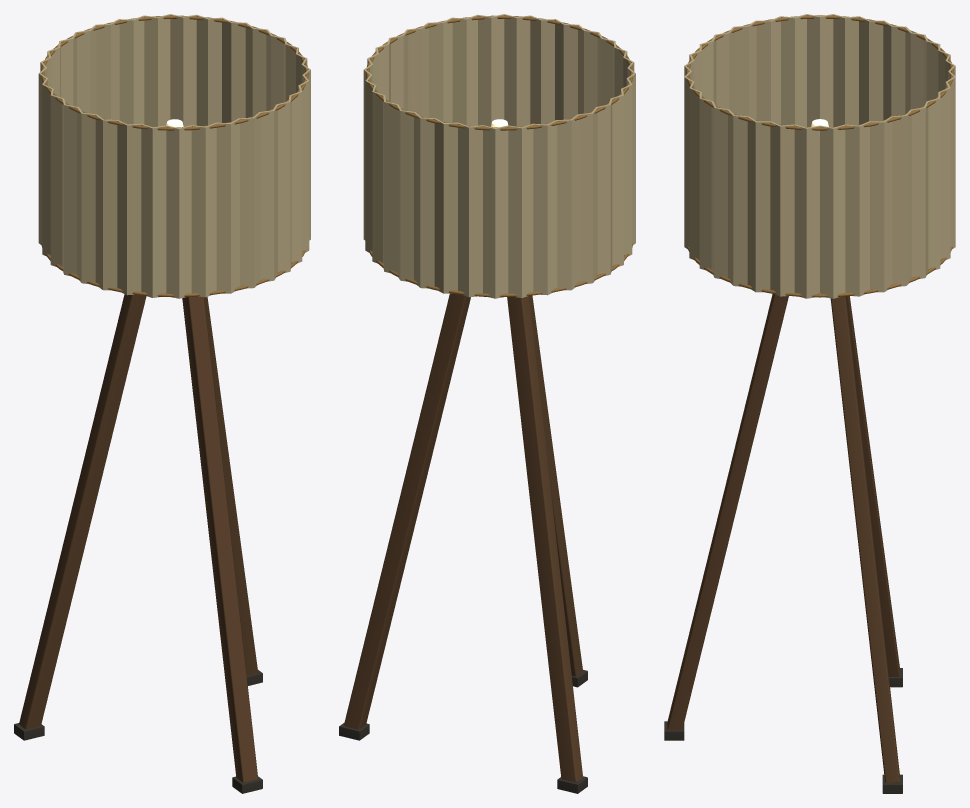
File: rpg-mansion-tripod-drum-floor-lamp-01.glb
The picture shows the model from 3 angles, left to right: view 1: azimuth 30°, elevation 25°; view 2: azimuth 150°, elevation 25°; view 3: azimuth 270°, elevation 25°; orthographic projection.
Parts seen in each view (by area): view 1: rpg-mansion-tripod-drum-floor-lamp-01; view 2: rpg-mansion-tripod-drum-floor-lamp-01; view 3: rpg-mansion-tripod-drum-floor-lamp-01.
Boxes of the visible parts, <box> form: rpg-mansion-tripod-drum-floor-lamp-01: <box>14,14,310,793</box>; rpg-mansion-tripod-drum-floor-lamp-01: <box>339,14,635,793</box>; rpg-mansion-tripod-drum-floor-lamp-01: <box>664,14,955,793</box>.
Bounding box in the file's own units: 0.6266 × 1.66 × 0.6605.
